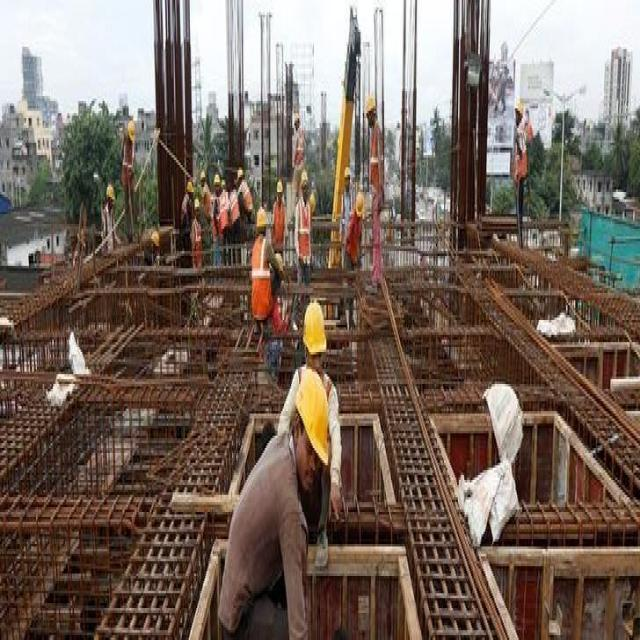Reflective-Jacket: (252, 236, 272, 318), (296, 197, 311, 256), (272, 197, 286, 244), (191, 214, 203, 261), (216, 197, 228, 236)
Safety-Helmet: (294, 364, 332, 468), (302, 293, 328, 357), (239, 180, 251, 212), (514, 91, 526, 121), (355, 187, 366, 217), (365, 88, 377, 115), (126, 116, 137, 145), (256, 204, 267, 229), (106, 177, 116, 202), (213, 167, 222, 192), (300, 167, 310, 187), (343, 165, 352, 185), (277, 175, 285, 194), (187, 175, 194, 194)
